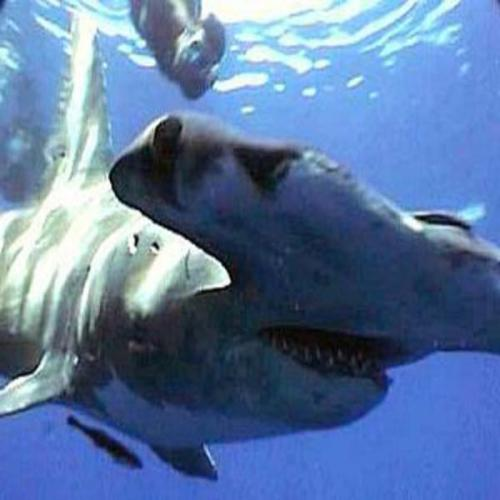shark-endangered: (0, 20, 494, 453)
